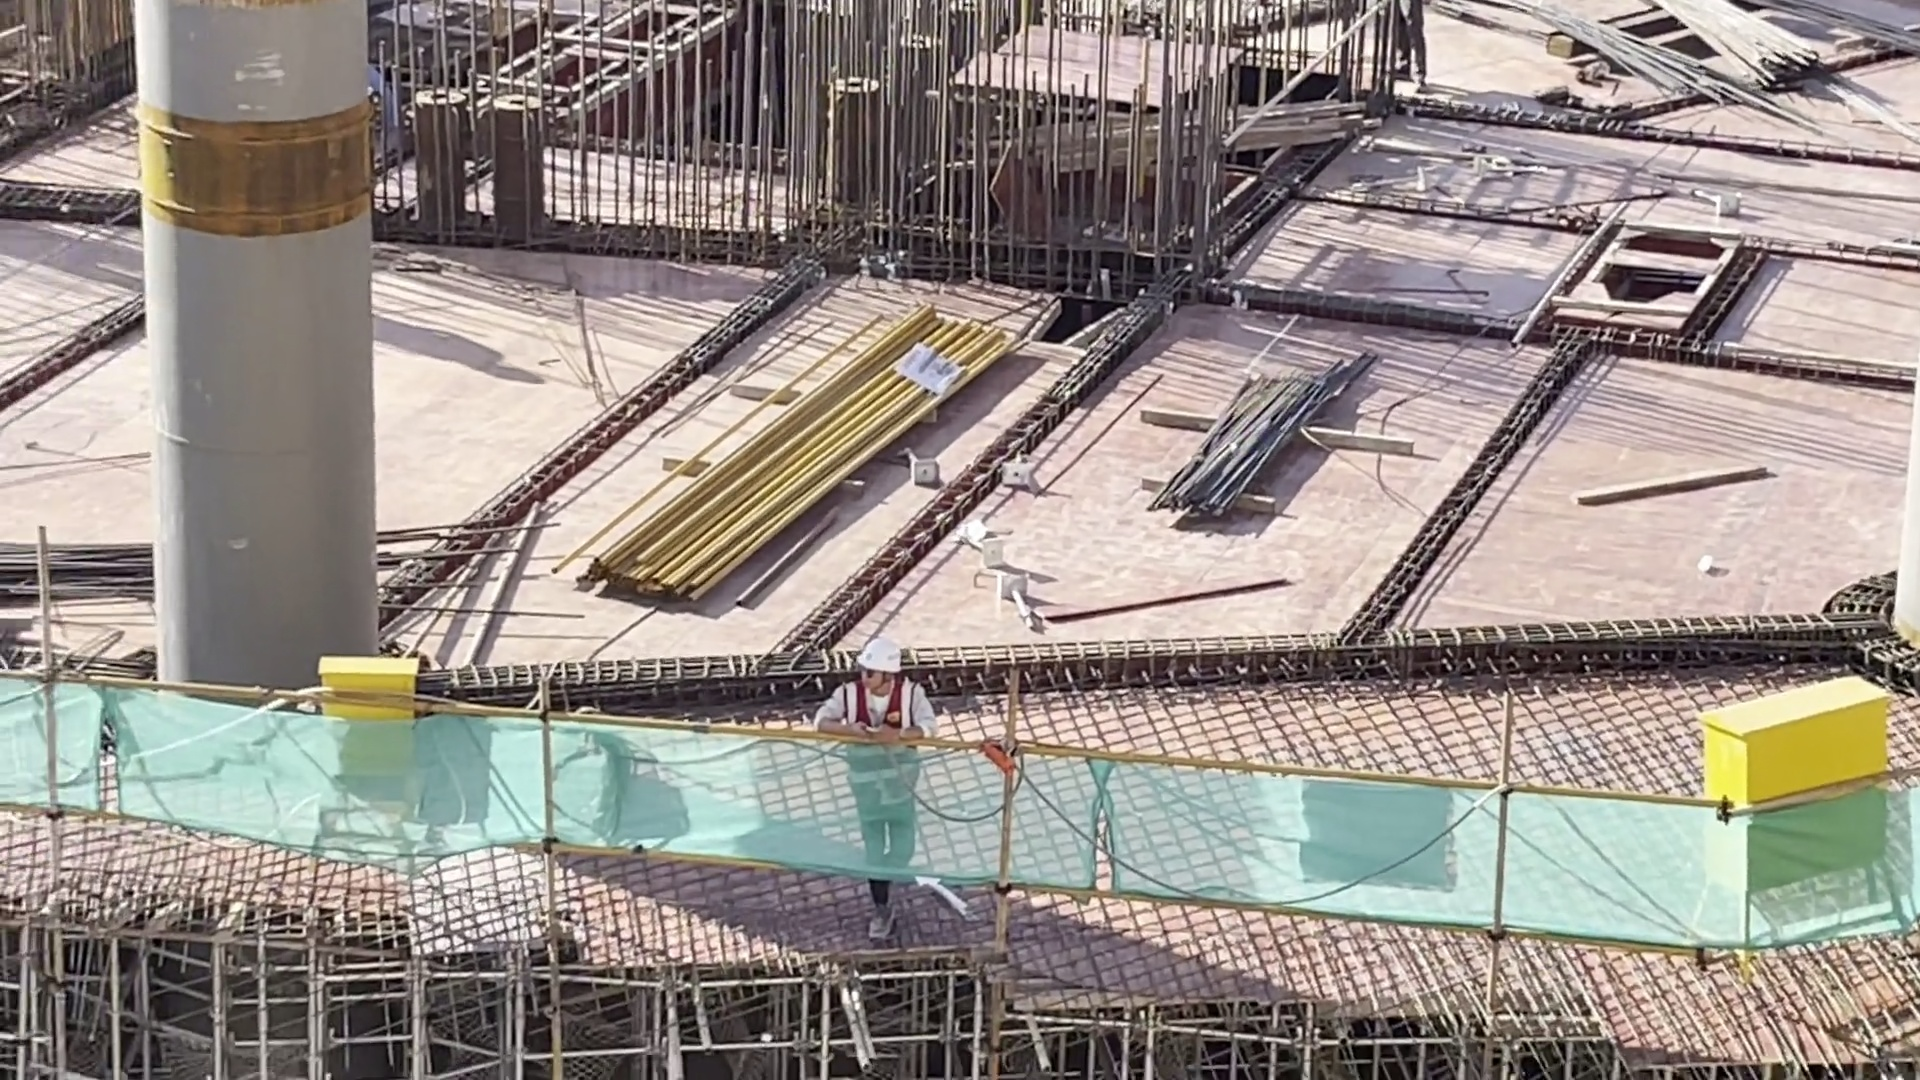ebox: (1711, 669, 1895, 875), (307, 643, 426, 794)
helmet: (855, 634, 912, 689)
person: (811, 628, 932, 946)
vest: (833, 675, 922, 816)
